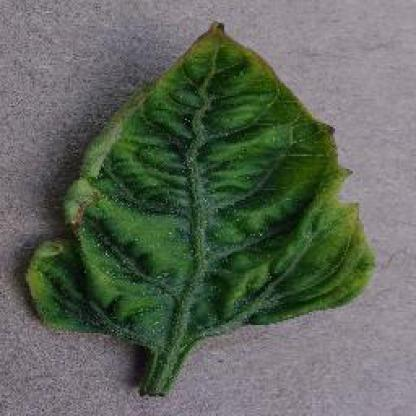bad leaf: (21, 33, 359, 379)
